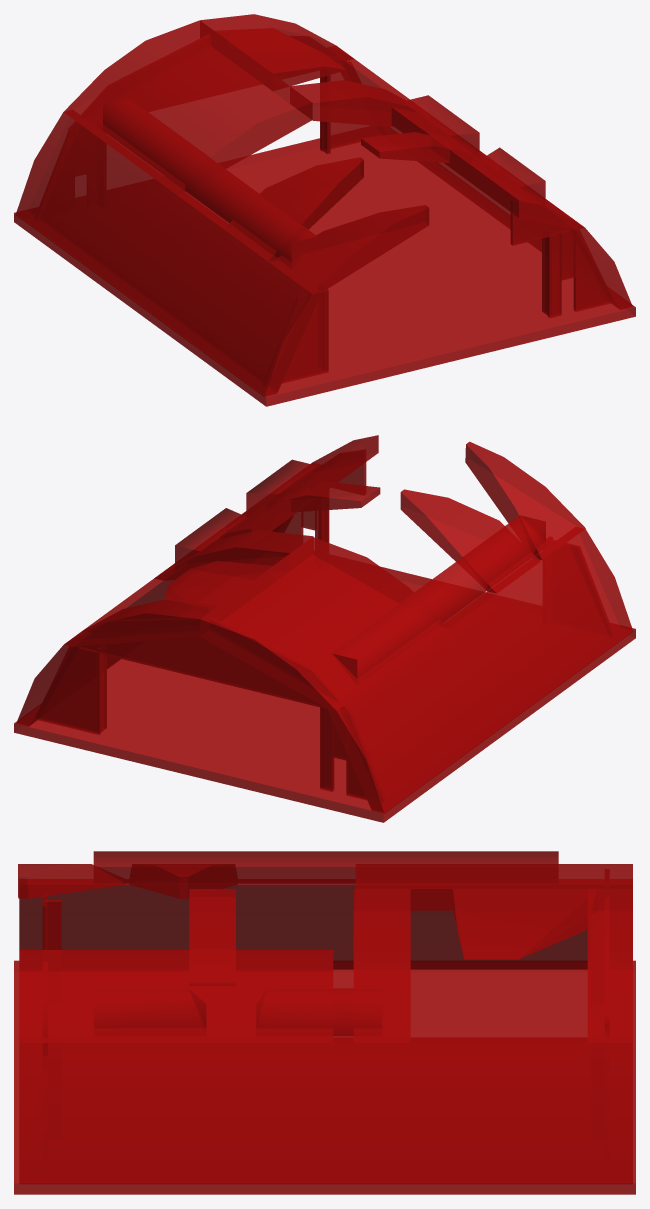
The model's file is SM_Bld_Hangar_Destroyed_01_Collision.fbx.
3 renders of one model, top to bottom at view 1: azimuth 30°, elevation 25°; view 2: azimuth 150°, elevation 25°; view 3: azimuth 270°, elevation 25°, orthographic. The views are drawn at different scales.
Visible parts, largest first — view 1: SM_Bld_Hangar_Destroyed_01_Collision; view 2: SM_Bld_Hangar_Destroyed_01_Collision; view 3: SM_Bld_Hangar_Destroyed_01_Collision.
Boxes of the visible parts, x1,y1,x2,y2 form: SM_Bld_Hangar_Destroyed_01_Collision: (14,14,635,406); SM_Bld_Hangar_Destroyed_01_Collision: (14,435,635,822); SM_Bld_Hangar_Destroyed_01_Collision: (14,851,635,1194).
Bounding box in the file's own units: 3063 × 1249 × 3621.
